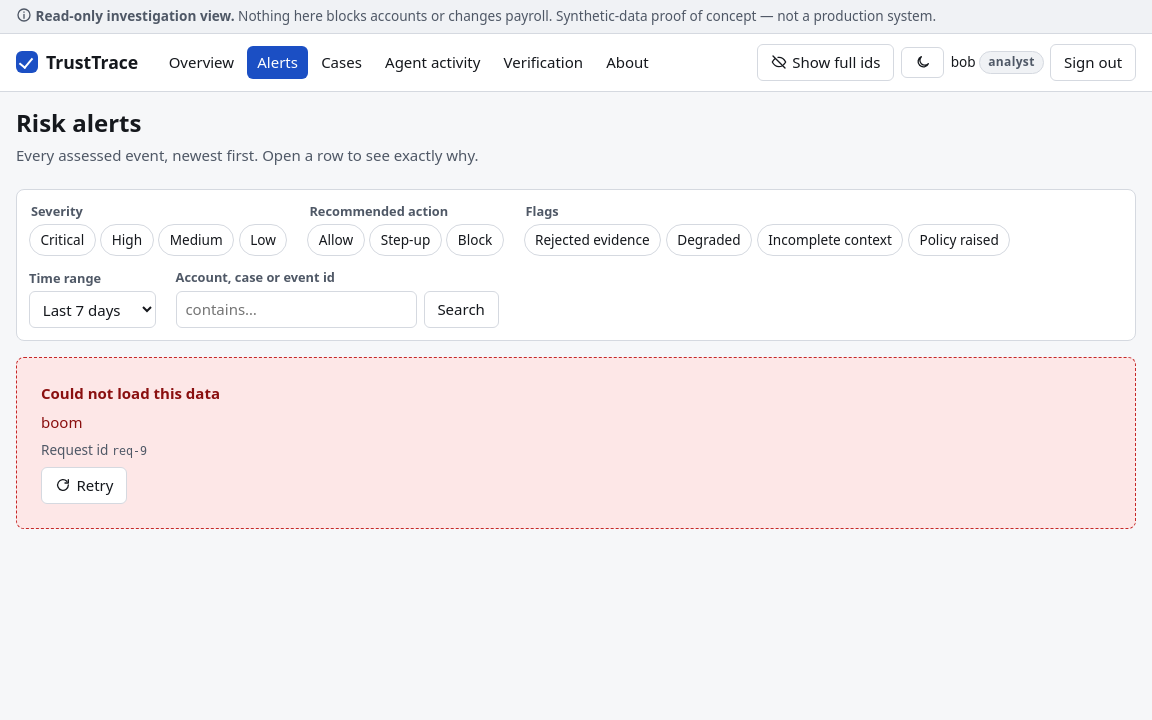
Test case: alerts queue › empty and error states
Expected: the message shows "boom", x1=41 y1=412 x2=82 y2=432
Expected: the text "req-9" is shown, x1=112 y1=444 x2=147 y2=458
Click the button "Retry" at (84, 485), box x1=41 y1=467 x2=127 y2=504
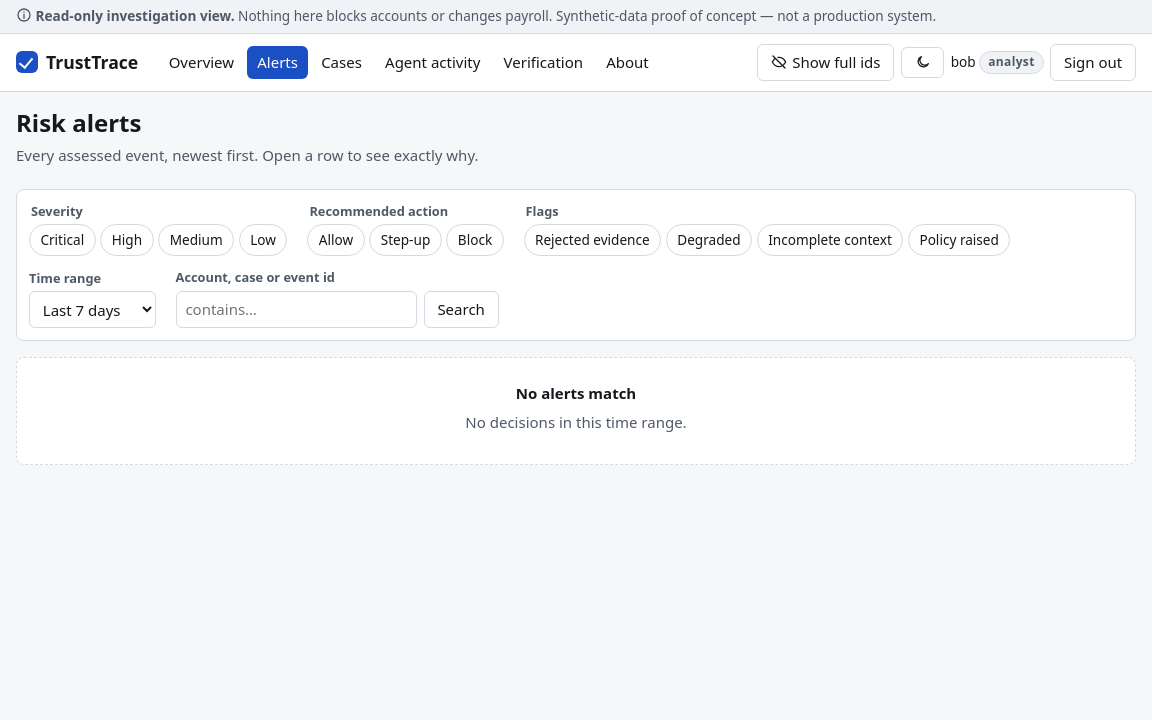
Now the text "No alerts match" is shown, box x1=516 y1=383 x2=636 y2=403
